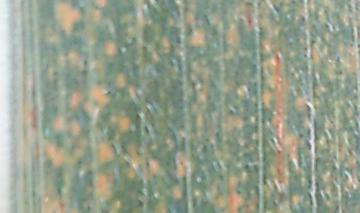tarspot: (166, 1, 183, 19), (28, 102, 38, 131), (201, 11, 211, 26), (308, 37, 316, 52), (306, 124, 313, 140), (304, 111, 314, 122), (270, 3, 280, 14), (303, 99, 312, 111), (174, 33, 183, 45), (353, 1, 360, 15), (97, 206, 110, 213), (190, 78, 197, 91), (346, 1, 353, 14), (142, 125, 151, 135), (304, 139, 312, 150), (54, 186, 62, 197), (101, 89, 113, 96), (261, 172, 267, 186), (199, 142, 208, 151), (241, 162, 250, 171), (49, 69, 59, 77), (247, 11, 252, 26), (333, 55, 341, 64), (74, 158, 83, 166), (322, 6, 329, 16), (80, 58, 88, 66), (136, 200, 144, 208), (144, 160, 152, 168), (227, 107, 235, 115), (336, 68, 344, 76), (273, 52, 280, 61), (252, 163, 258, 173), (299, 15, 306, 23), (330, 163, 336, 172), (86, 204, 92, 213), (323, 21, 329, 30), (203, 135, 209, 143), (330, 23, 336, 31), (297, 132, 303, 139), (302, 52, 309, 58), (303, 44, 308, 52), (356, 41, 360, 50), (356, 48, 360, 56)
